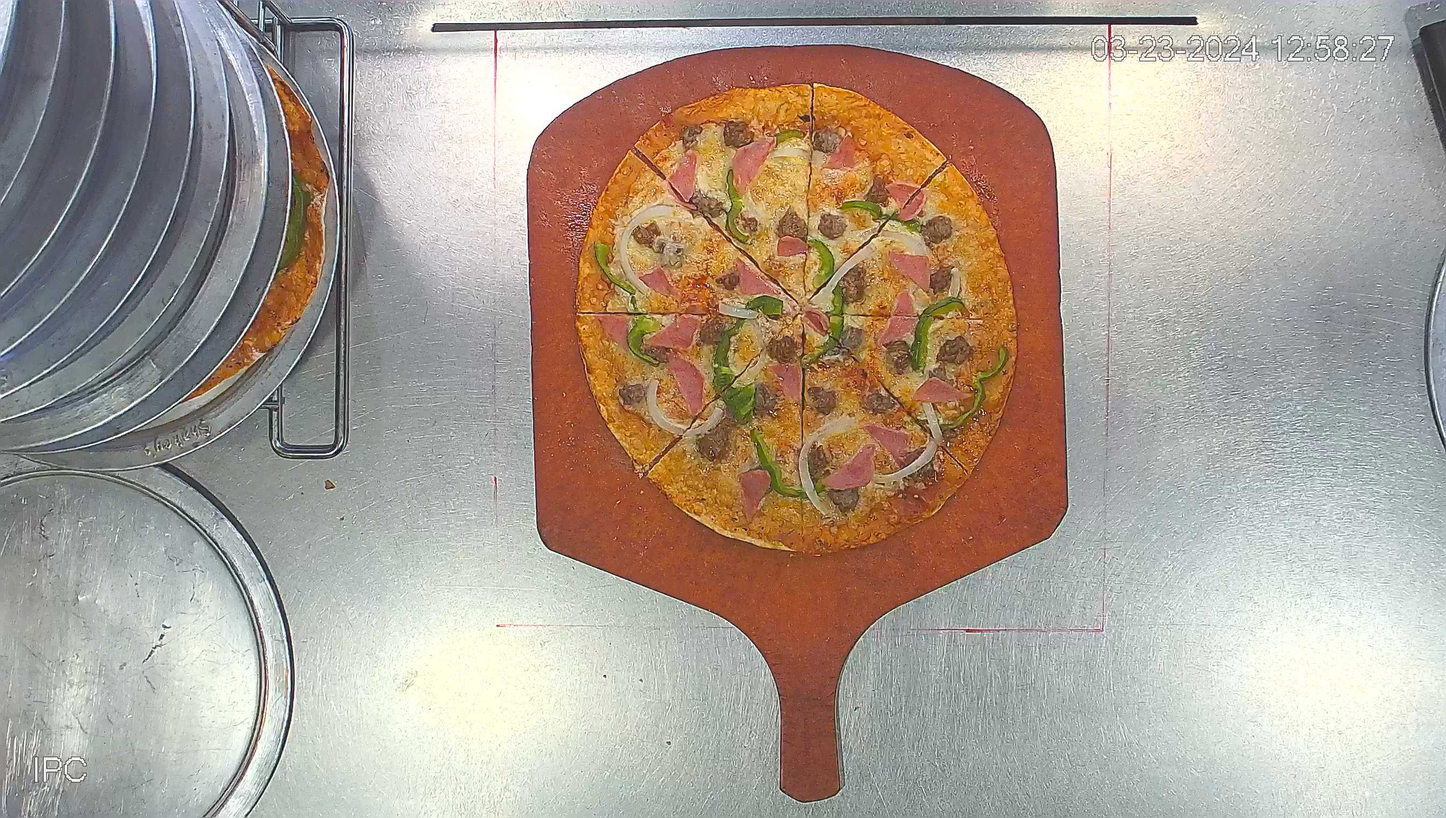hawaiian: (576, 79, 1018, 553)
